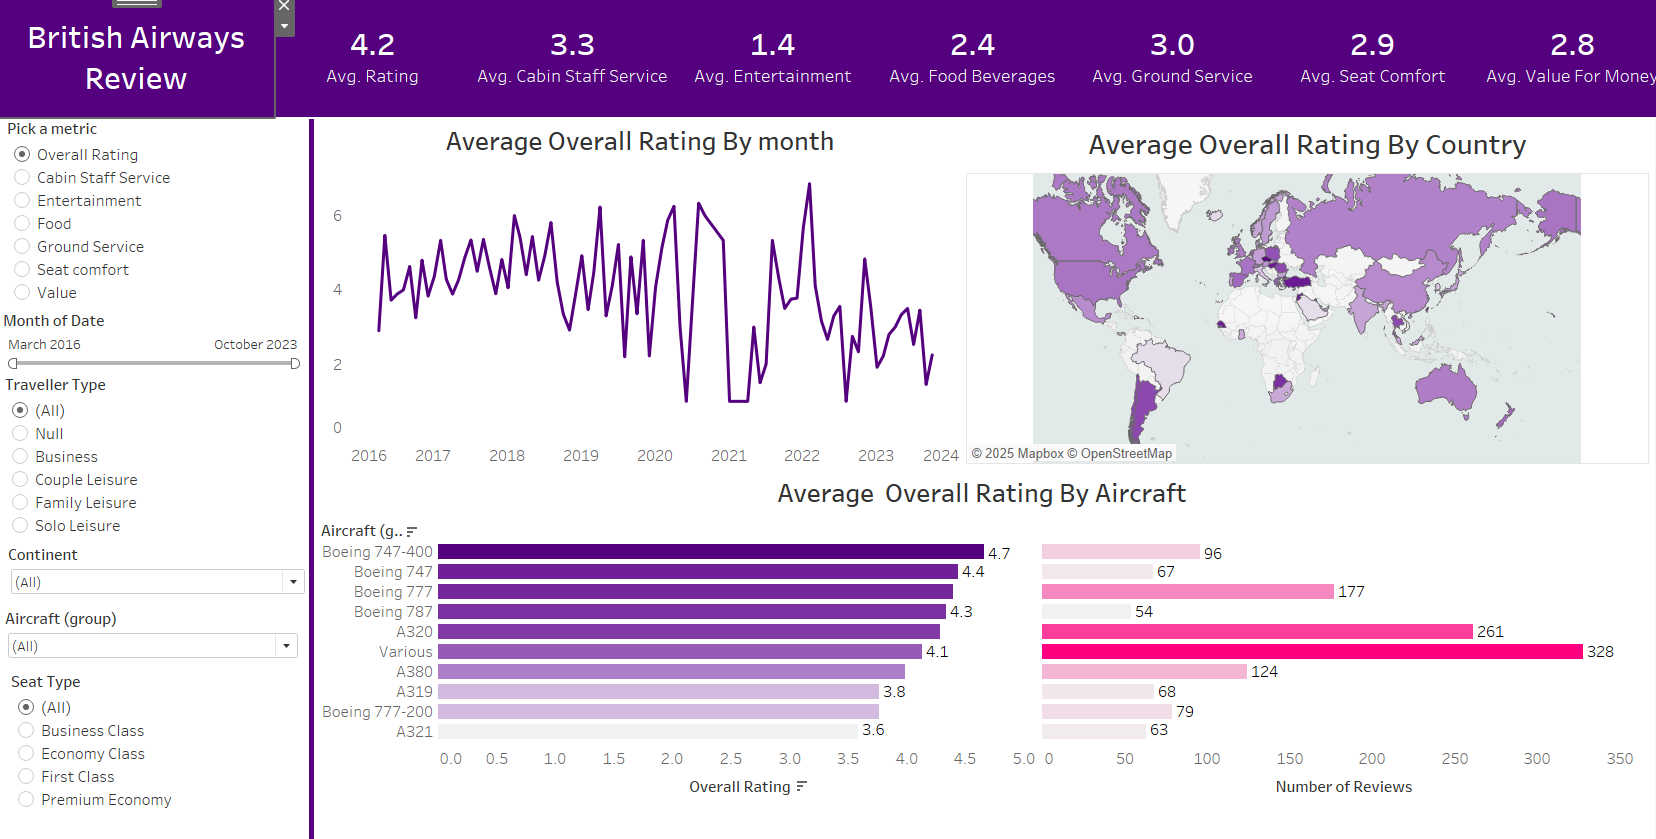

The dashboard page shown, as its layout file describes it:
{"tool":"tableau","page":{"name":"Dashboard 1","canvas":[1000,1000],"units":"permille","ordinal":0},"visuals":[{"type":"text","box":[0,0,166.7,142.9]},{"type":"parameter","param":"[Parameters].[Parameter 1]","box":[5.4,144.5,213.9,224.4]},{"type":"blank","box":[188,145.7,3,854.3]},{"type":"worksheet","title":"Month","mark":"Automatic","rows":["Calculation_747879015804600320"],"cols":["date"],"box":[194,145.7,387.4,410.1]},{"type":"worksheet","title":"Map","mark":"Automatic","box":[584.3,148.1,412.1,403.1]},{"type":"filter","title":"Map","param":"[federated.0ky23fv0z2yj480zw5dwj1b3r7t3].[tmn:date:qk]","box":[3,370.2,181.9,78.7]},{"type":"filter","title":"Map","param":"[federated.0ky23fv0z2yj480zw5dwj1b3r7t3].[none:traveller_type:nk]","box":[4.2,445.4,182.5,224.4]},{"type":"worksheet","title":"Average rating","mark":"Automatic","cols":["Calculation_747879015804600320","ba_reviews.csv_30EBDD192F834028976F2A477D272F4F"],"box":[193.4,559.3,801.8,434.8]},{"type":"filter","title":"Map","param":"[federated.0ky23fv0z2yj480zw5dwj1b3r7t3].[none:Continent:nk]","box":[6,645.1,181.3,77.6]},{"type":"filter","title":"Map","param":"[federated.0ky23fv0z2yj480zw5dwj1b3r7t3].[Aircraft (group)]","box":[4.2,720.3,178.9,77.6]},{"type":"filter","title":"Map","param":"[federated.0ky23fv0z2yj480zw5dwj1b3r7t3].[none:seat_type:nk]","box":[7.8,794.4,179.5,202.1]}]}

Visuals, with their boxes on the dashboard's canvas, which has no fixed pixel size, in thousandths of its width and height (x1, y1, x2, y2). These are canvas units, not pixel positions in the 1656x839 screenshot, which may show the page scaled, cropped or inside an application window:
text: locate(0, 0, 167, 143)
parameter: locate(5, 144, 219, 369)
blank: locate(188, 146, 191, 1000)
"Month" worksheet: locate(194, 146, 581, 556)
"Map" worksheet: locate(584, 148, 996, 551)
"Map" filter: locate(3, 370, 185, 449)
"Map" filter: locate(4, 445, 187, 670)
"Average rating" worksheet: locate(193, 559, 995, 994)
"Map" filter: locate(6, 645, 187, 723)
"Map" filter: locate(4, 720, 183, 798)
"Map" filter: locate(8, 794, 187, 996)
